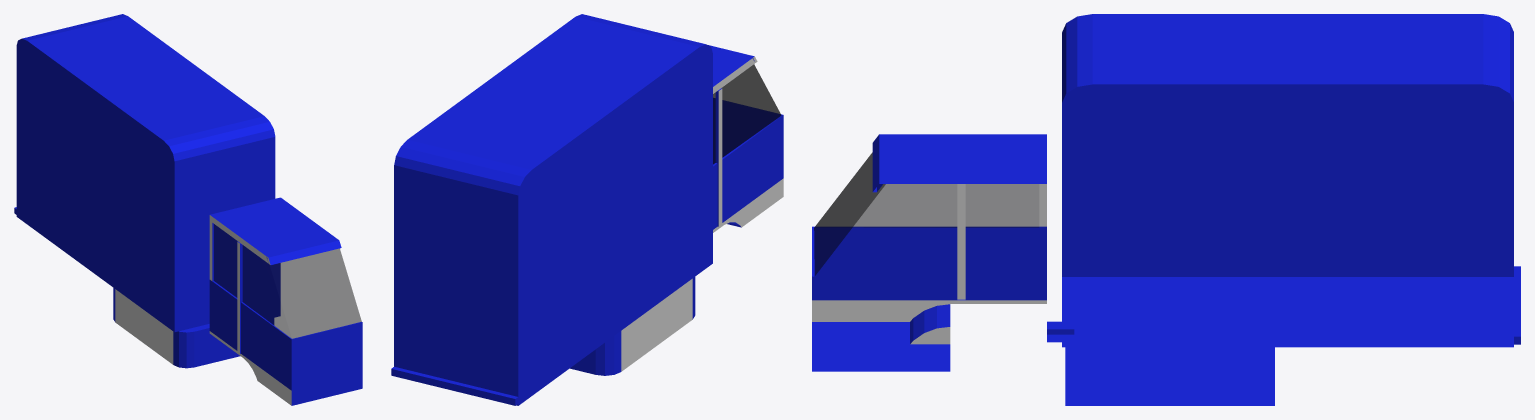
The model's file is CarosserieTruck.glb.
3 renders of one model, left to right at view 1: azimuth 30°, elevation 25°; view 2: azimuth 150°, elevation 25°; view 3: azimuth 270°, elevation 25°, orthographic. The views are drawn at different scales.
Parts seen in each view (by area): view 1: Truck; view 2: Truck; view 3: Truck.
Part boxes in pixels (x1=…): Truck: x1=14, y1=14, x2=362, y2=405; Truck: x1=391, y1=14, x2=783, y2=405; Truck: x1=812, y1=14, x2=1520, y2=405.
Bounding box in the file's own units: 1.96 × 4.18 × 8.35.
